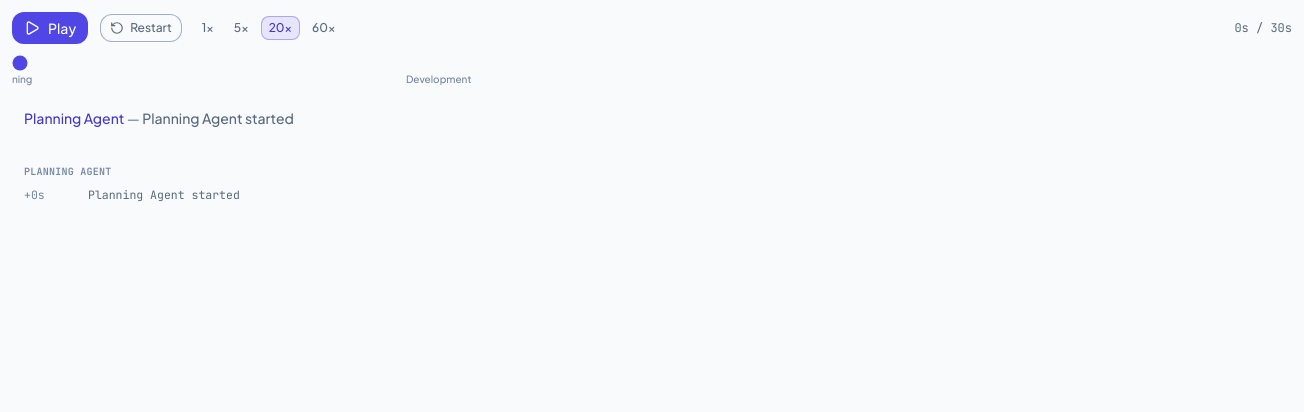
Scenario: WorkflowReplayPanel › restarts playback back to the beginning
What coordinates should you click on to do the following:
click the button with aria-label "Play replay"
I would click on:
 (50, 28)
Its box is [12,12,88,44].
Wait 5000 ms
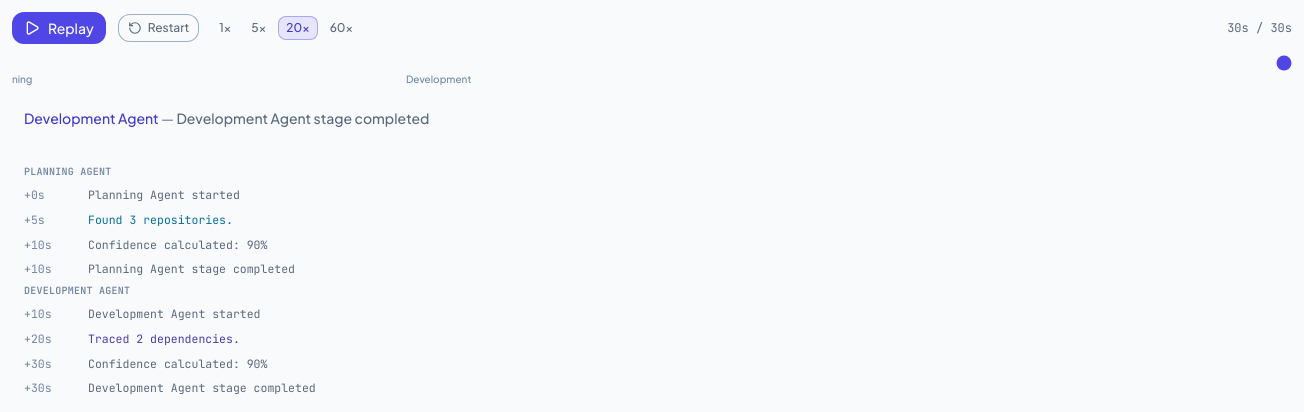
Check: the text "Traced 2 dependencies." is shown, box [88,331,240,346]
What coordinates should you click on to do the following:
click the button with aria-label "Restart from the beginning"
I would click on:
 (158, 28)
Its box is [118,14,199,42].
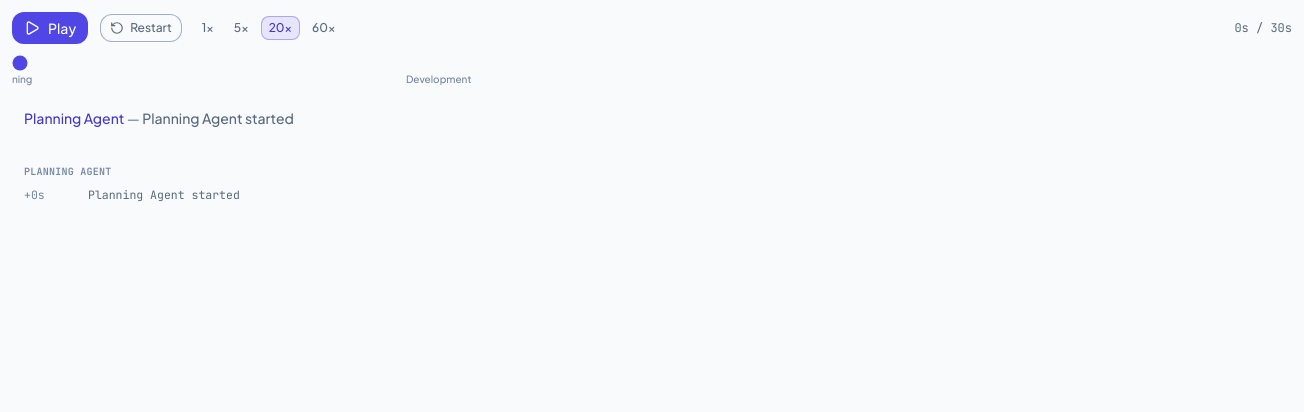
Check: the text "Traced 2 dependencies." is gone
Check: the button with aria-label "Play replay" is shown, box [12,12,88,44]
